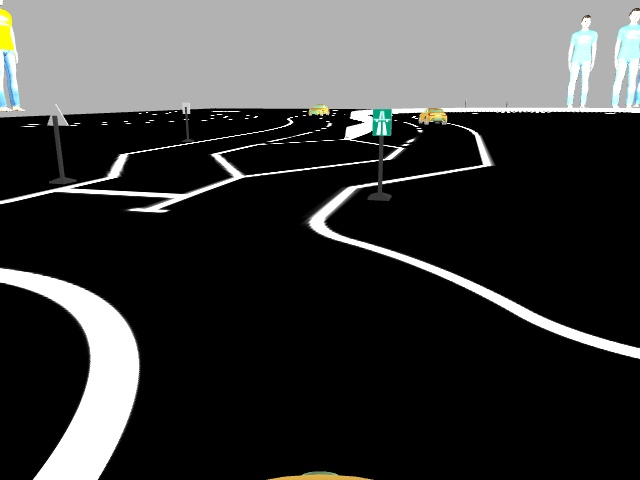HighwayEntrance: (370, 109, 393, 136)
